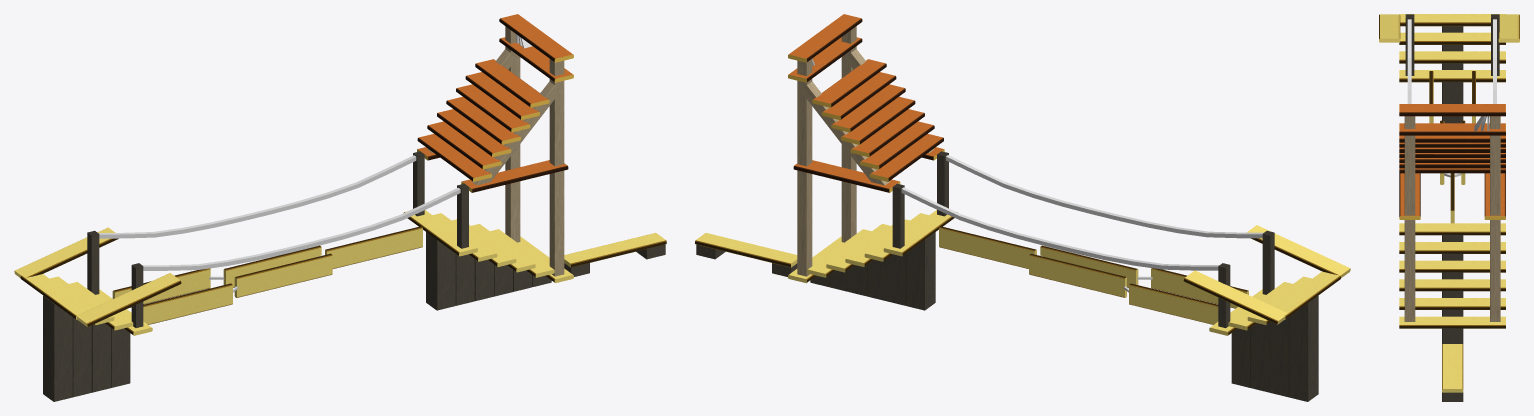
The model's file is YUUGU(Lv1).fbx.
3 views of the same model, side by side, from view 1: azimuth 30°, elevation 25°; view 2: azimuth 150°, elevation 25°; view 3: azimuth 270°, elevation 25° (orthographic). The views are drawn at different scales.
Visible parts, largest first — view 1: Wood2Dark_M.105, Wood2Dark_M.028, Wood1_M.066, Cube.023, Cube.011, Wood1_M.064, Wood1_M.068, Wood1_M.074, Wood2_M.076, Wood2_M.080, Wood1_M.057, Wood1Dark_M.105 (+26 smaller); view 2: Wood2Dark_M.105, Wood2Dark_M.028, Cube.023, Cube.011, Wood1_M.065, Wood1_M.064, Wood1_M.067, Wood2_M.077, Wood1_M.073, Wood1_M.057, Wood2_M.081, Wood1_M.074 (+26 smaller); view 3: Wood1Dark_M.105, Wood1_M.058, Wood2_M.076, Wood1Dark_M.104, Wood2Dark_M.028, Wood1_M.070, Wood1_M.069, Wood2_M.080, Wood1_M.061, Wood2_M.077, Wood1_M.060, Wood1_M.063 (+27 smaller).
Part boxes in pixels (bbox=[...]): Wood2Dark_M.105: bbox=[43, 295, 110, 401]; Wood2Dark_M.028: bbox=[426, 232, 551, 310]; Wood1_M.066: bbox=[234, 253, 332, 297]; Cube.023: bbox=[142, 187, 460, 270]; Cube.011: bbox=[98, 155, 416, 238]; Wood1_M.064: bbox=[325, 226, 422, 268]; Wood1_M.068: bbox=[143, 283, 232, 324]; Wood1_M.074: bbox=[76, 273, 181, 326]; Wood2_M.076: bbox=[549, 170, 564, 276]; Wood2_M.080: bbox=[549, 59, 564, 166]; Wood1_M.057: bbox=[564, 233, 666, 267]; Wood1Dark_M.105: bbox=[499, 14, 573, 62]; Wood2Dark_M.105: bbox=[1250, 295, 1318, 401]; Wood2Dark_M.028: bbox=[810, 232, 935, 310]; Cube.023: bbox=[946, 155, 1263, 238]; Cube.011: bbox=[901, 187, 1219, 270]; Wood1_M.065: bbox=[1029, 253, 1126, 297]; Wood1_M.064: bbox=[939, 226, 1036, 268]; Wood1_M.067: bbox=[1129, 283, 1218, 324]; Wood2_M.077: bbox=[797, 170, 812, 276]; Wood1_M.073: bbox=[1183, 270, 1287, 324]; Wood1_M.057: bbox=[695, 233, 797, 267]; Wood2_M.081: bbox=[797, 59, 812, 166]; Wood1_M.074: bbox=[1247, 225, 1350, 277]; Wood1Dark_M.105: bbox=[1399, 104, 1505, 116]; Wood1_M.058: bbox=[1399, 316, 1505, 328]; Wood2_M.076: bbox=[1404, 220, 1415, 321]; Wood1Dark_M.104: bbox=[1399, 123, 1505, 135]; Wood2Dark_M.028: bbox=[1442, 234, 1463, 343]; Wood1_M.070: bbox=[1399, 51, 1505, 63]; Wood1_M.069: bbox=[1399, 70, 1505, 82]; Wood2_M.080: bbox=[1404, 116, 1415, 215]; Wood1_M.061: bbox=[1399, 260, 1505, 272]; Wood2_M.077: bbox=[1490, 220, 1500, 321]; Wood1_M.060: bbox=[1399, 279, 1505, 291]; Wood1_M.063: bbox=[1399, 223, 1505, 235].
Size of the model in its own units: 6400 by 2440 by 1320.
6 materials, 3 textured.
